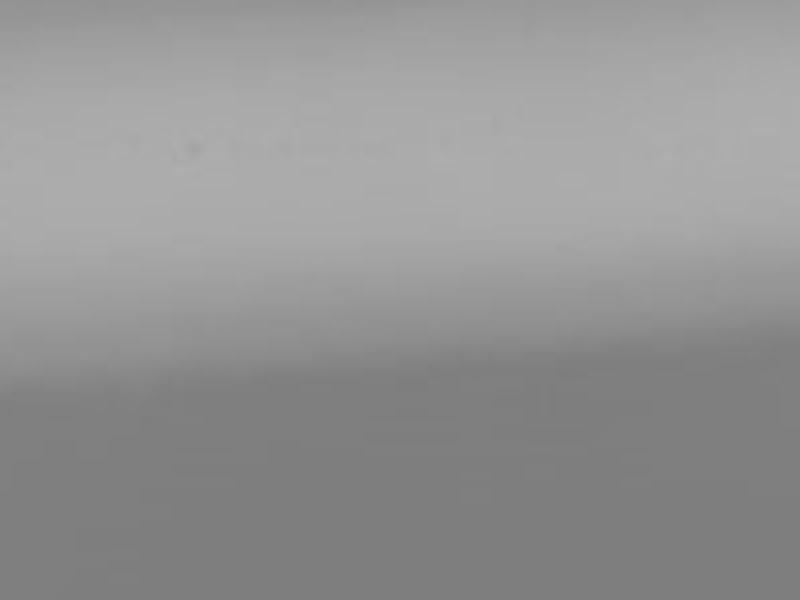defect: (181, 133, 209, 159)
